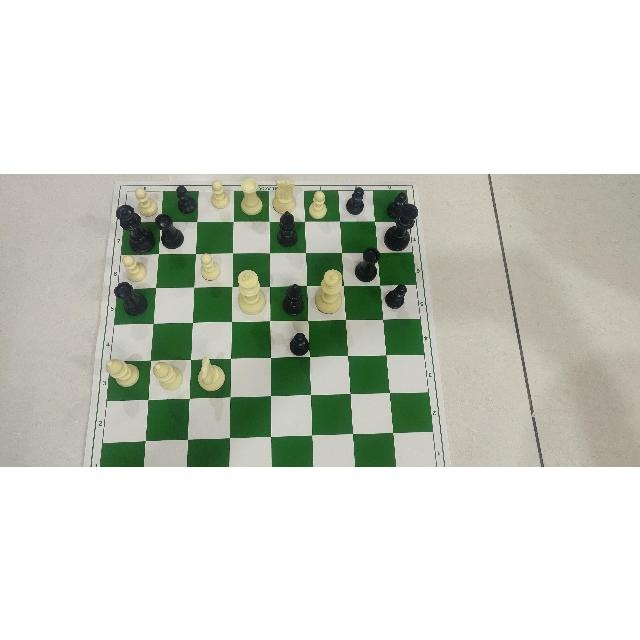black-bishop: (280, 281, 305, 316), (278, 210, 298, 247)
black-king: (384, 202, 424, 247)
black-pawn: (343, 184, 368, 215), (174, 183, 196, 213), (387, 283, 411, 307), (290, 330, 312, 355), (386, 192, 407, 218)
black-queen: (113, 205, 149, 249)
black-rook: (111, 280, 145, 313), (155, 212, 186, 247), (357, 247, 385, 285)
white-bishop: (103, 356, 139, 389), (152, 360, 183, 389)
white-king: (235, 267, 265, 314)
white-knight: (195, 356, 225, 393), (274, 177, 298, 211)
white-pawn: (120, 252, 147, 282), (206, 179, 231, 209), (198, 252, 222, 282), (131, 185, 155, 211), (309, 189, 330, 217)
white-queen: (314, 267, 343, 318)
white-rook: (238, 177, 263, 215)
